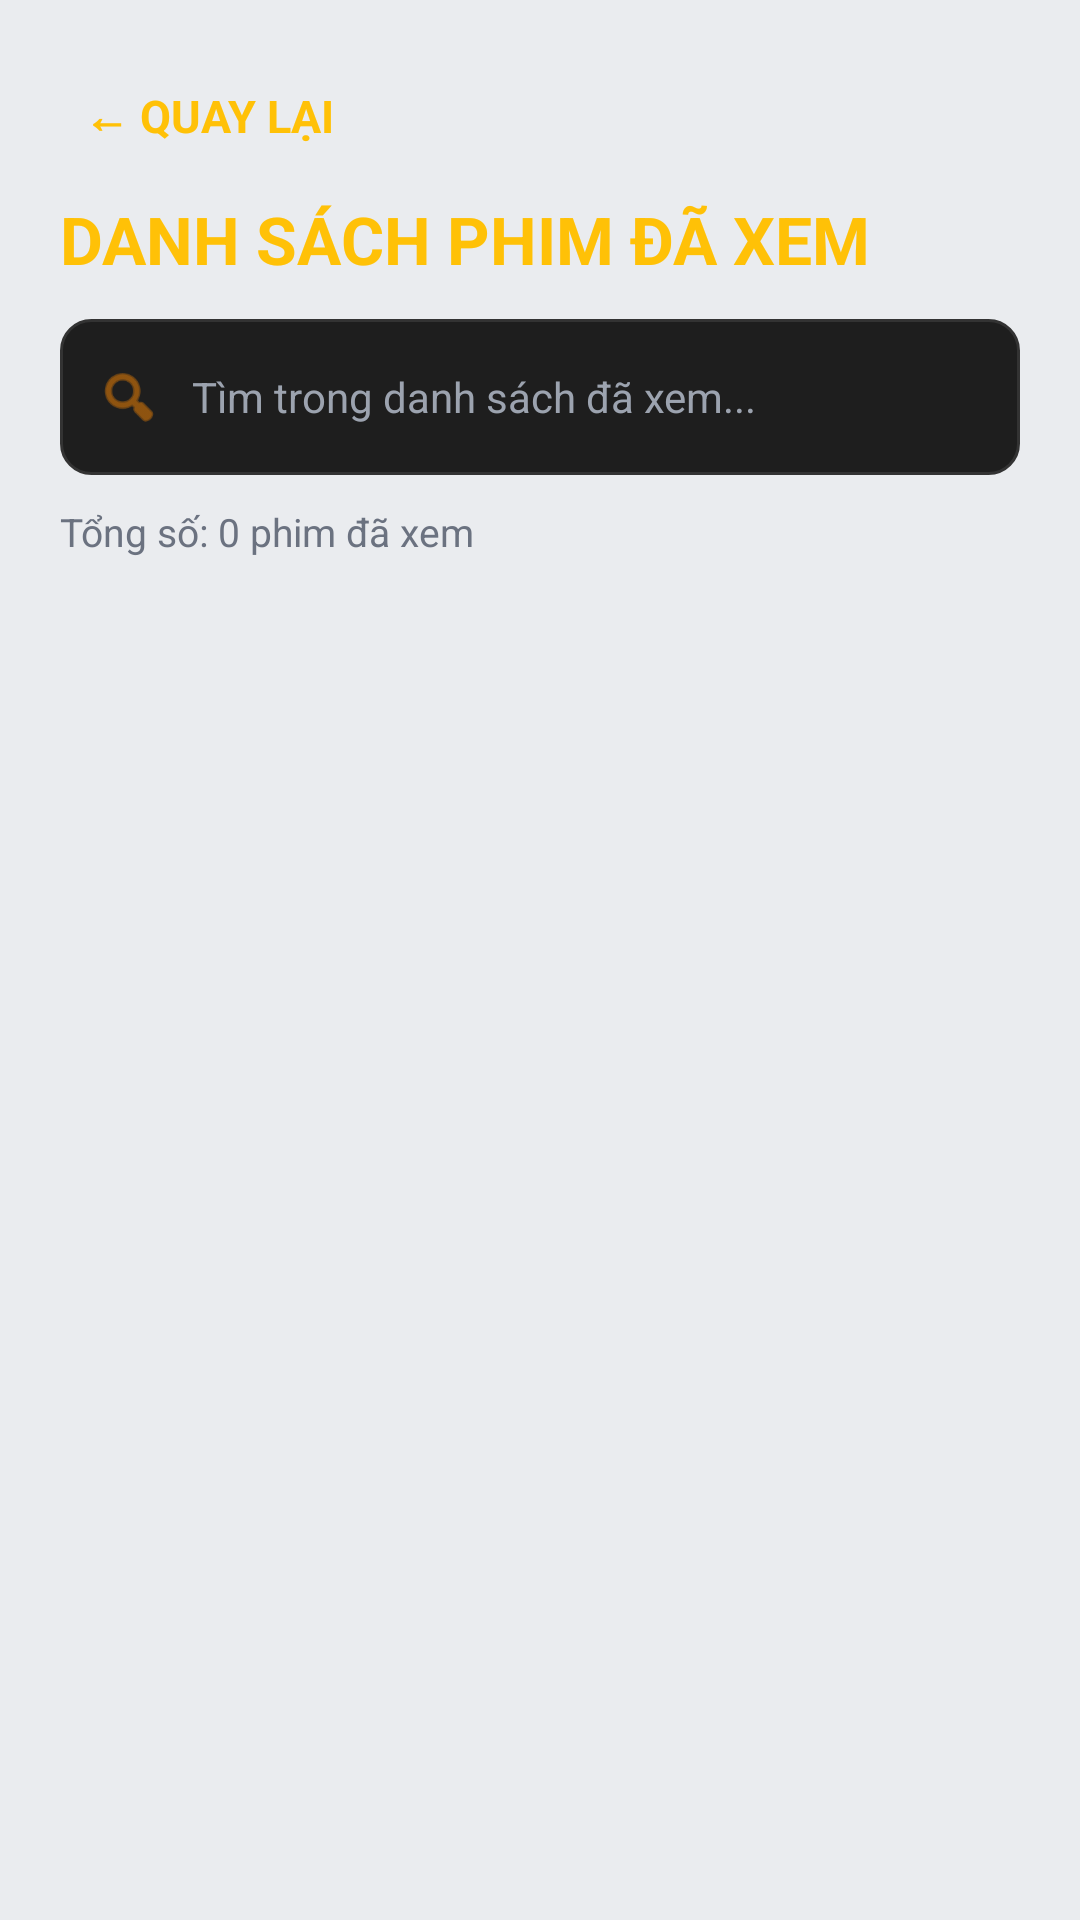

Named icons in this screenshot (1080px×1920px) and their bounding boxes, {"left": x1, "top": y1, "right": x2, "bottom": y2}:
Search Icon: {"left": 105, "top": 373, "right": 153, "bottom": 422}
